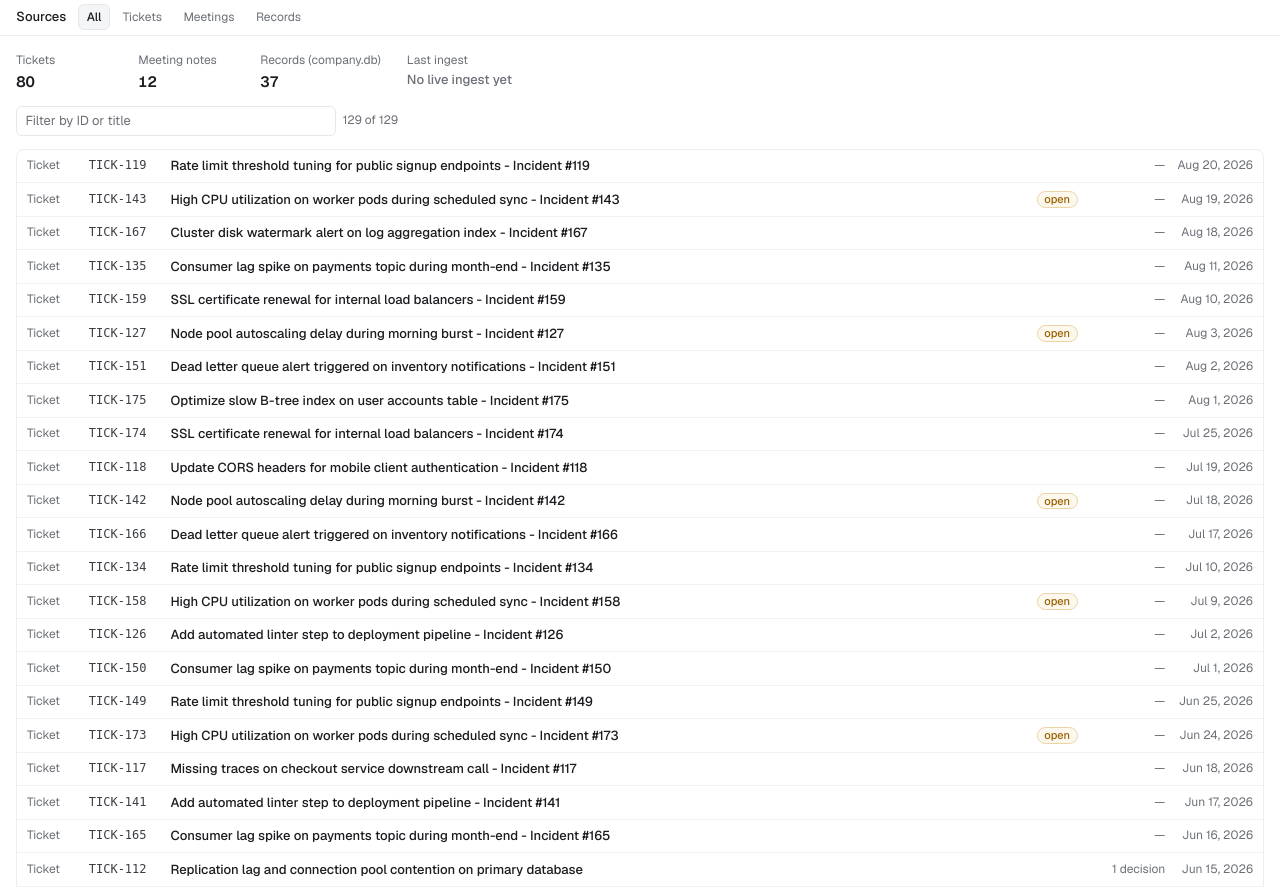
Test: Sources page › shows counts, filters by type, and opens a source with its quote highlighted
Expected: the text "80" is shown, [16,72,35,91]
Click the button "Meetings".
click(209, 17)  # box [174,4,244,30]
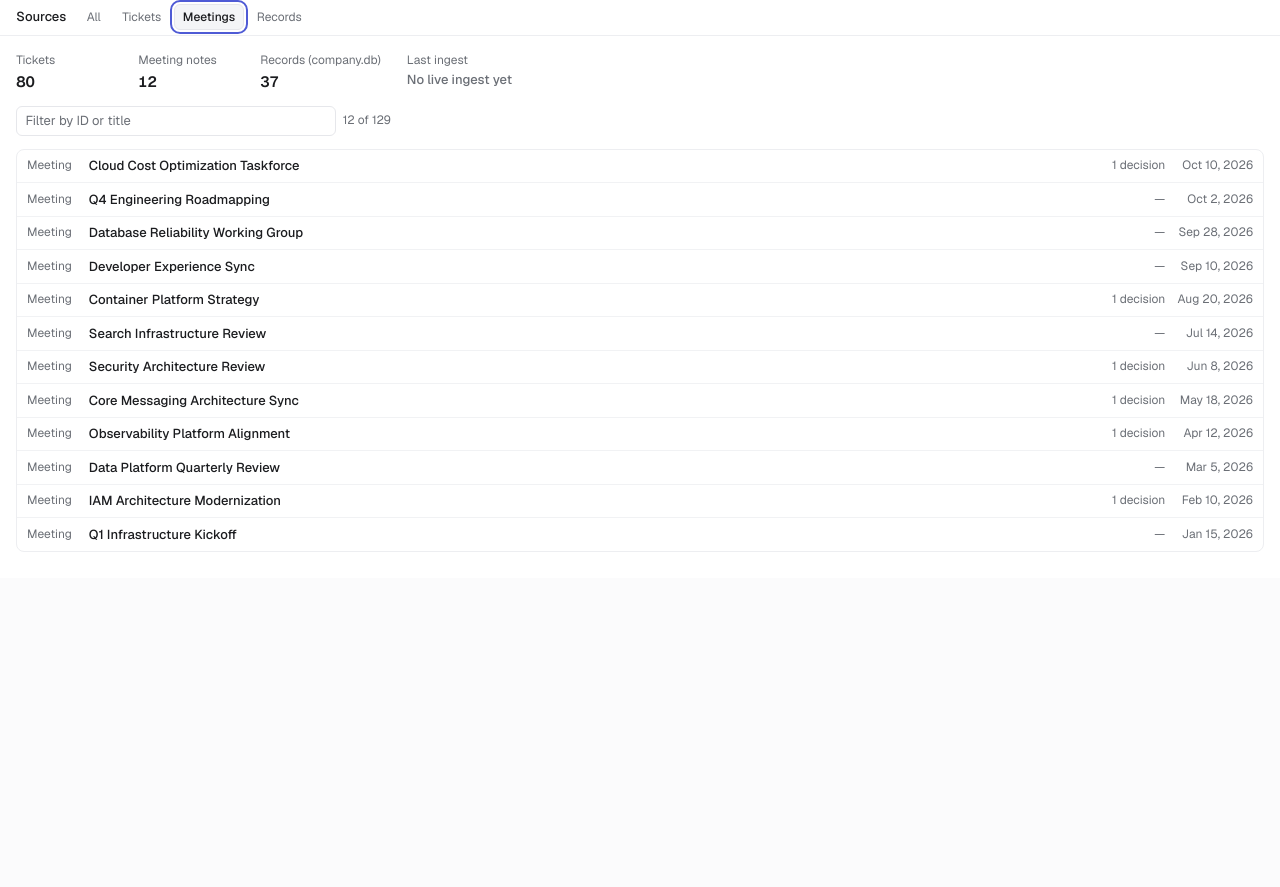
Click the button "All".
click(94, 17)  # box [78,4,110,30]
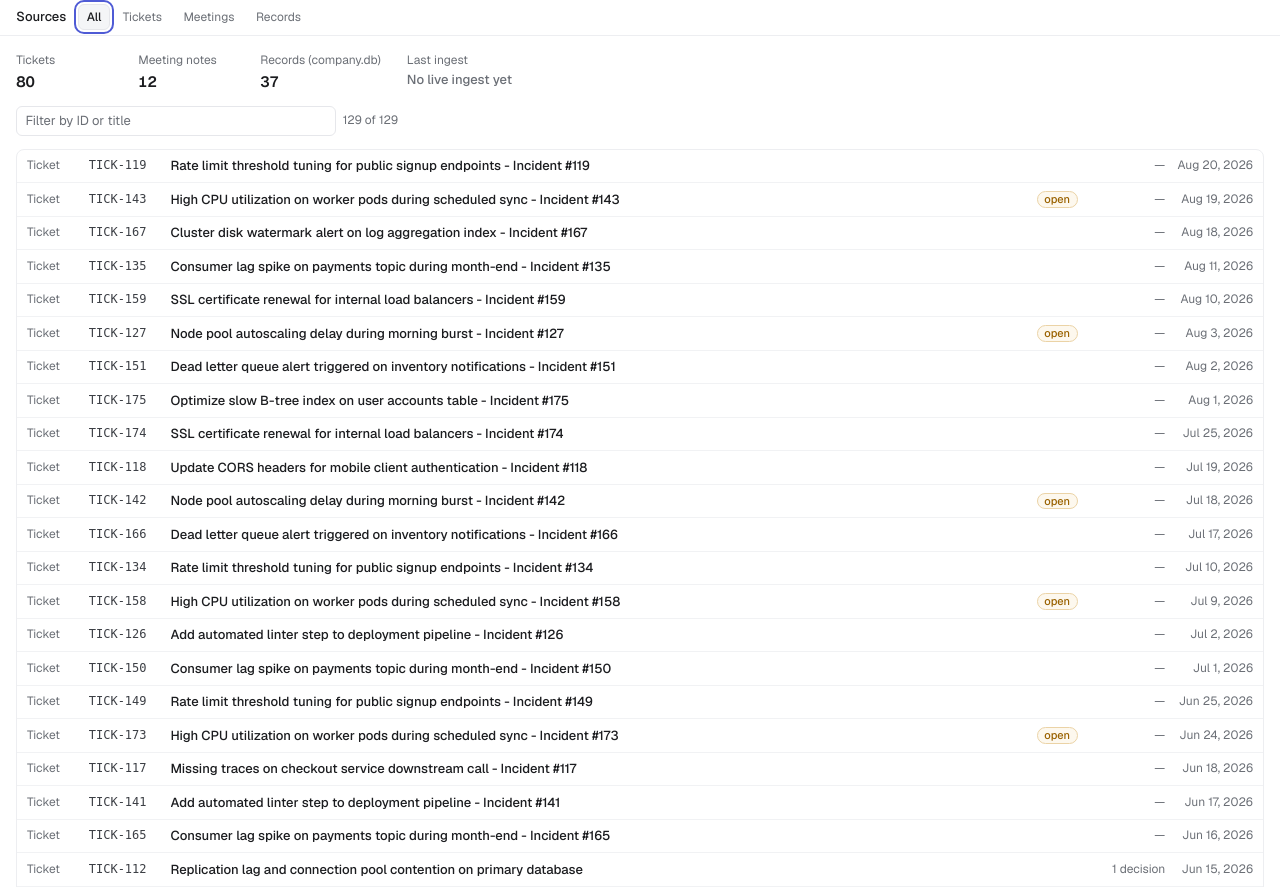
Type "TICK-105" into the search field named "Filter sources".
click(176, 121); type("TICK-105")  # box [16,106,336,136]
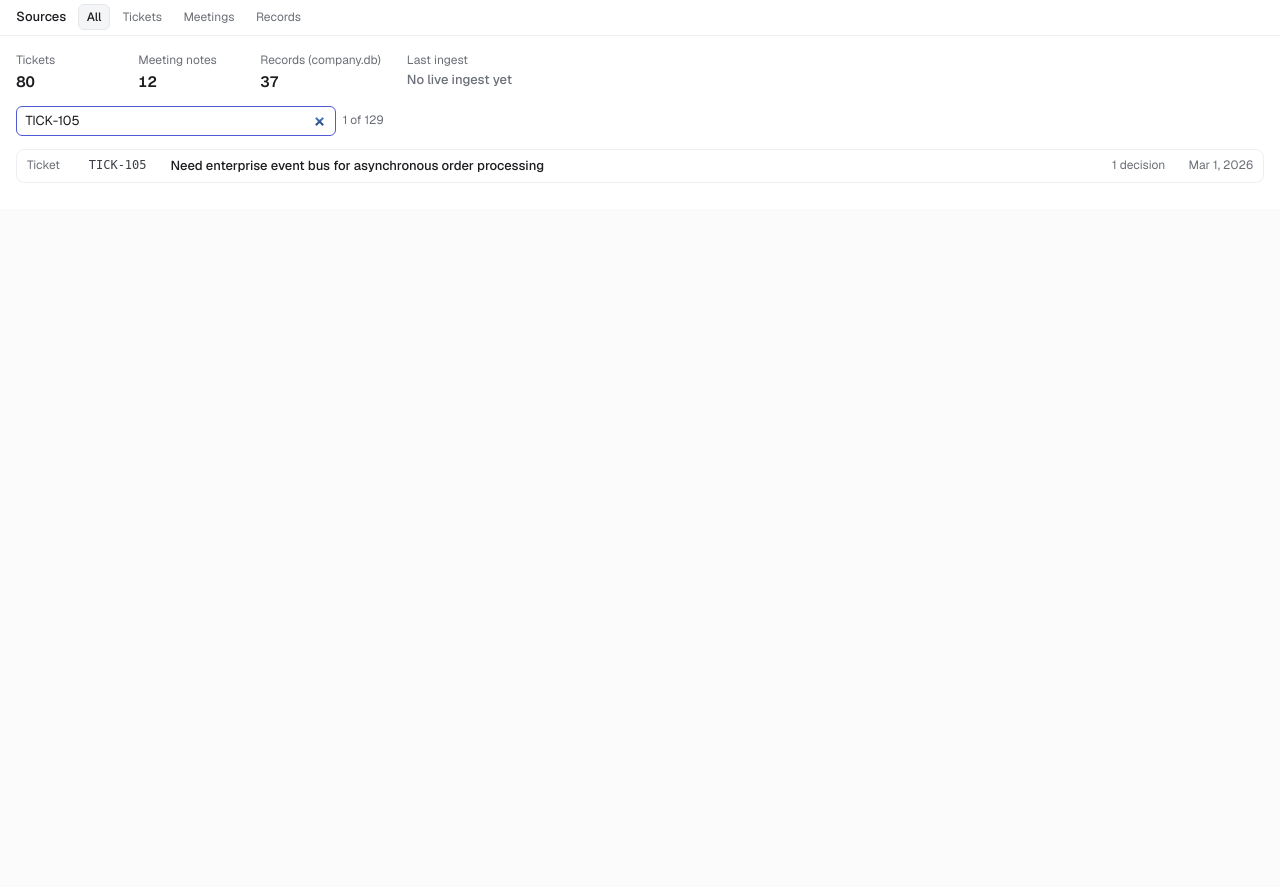
Click the button "Ticket TICK-105".
click(44, 165)  # box [17,150,1263,182]
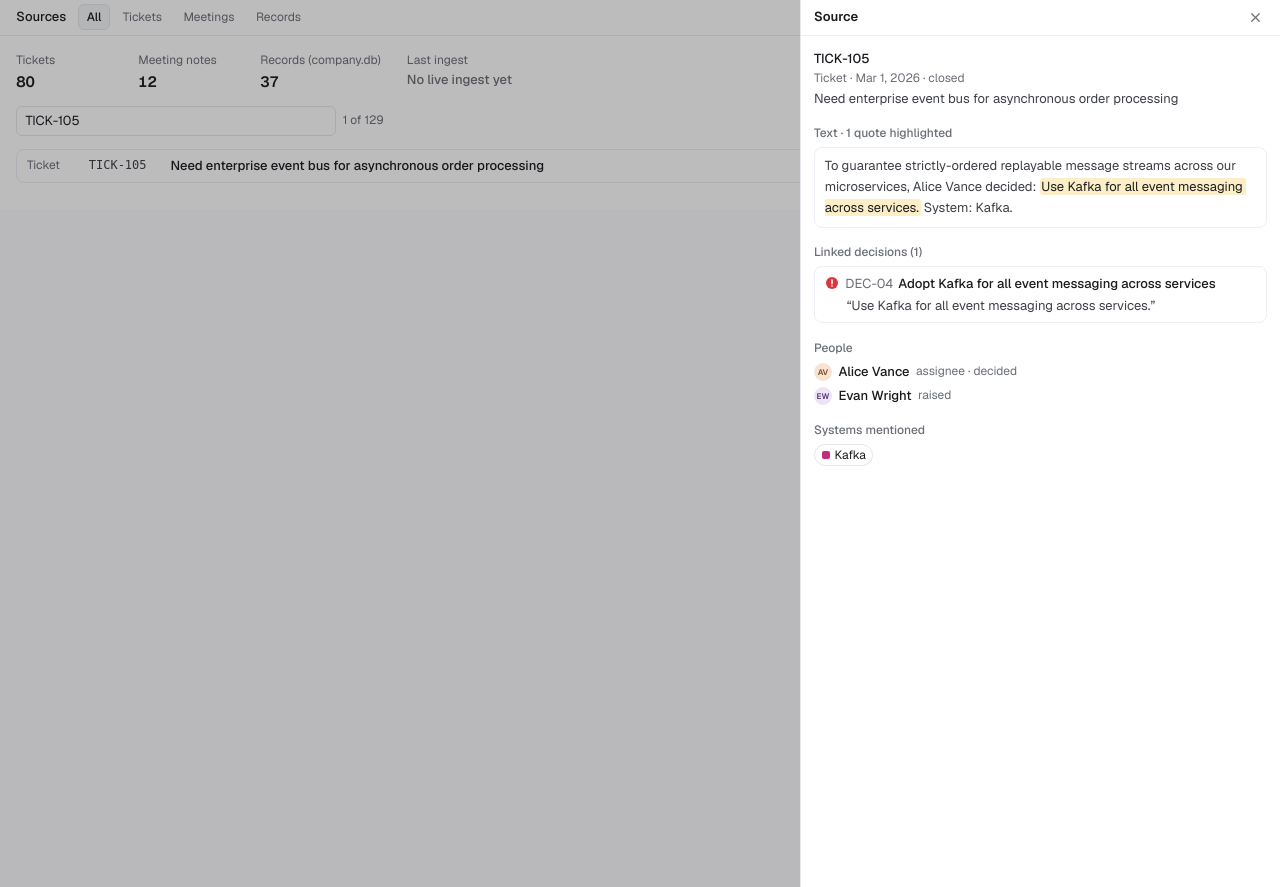
Expected: the heading "Text · 1 quote highlighted" is shown, [814,125,952,141]
Expected: the text "Use Kafka for all event messaging across services." is shown, [825,178,1246,216]
